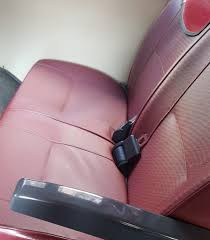seat: (19, 49, 163, 233)
